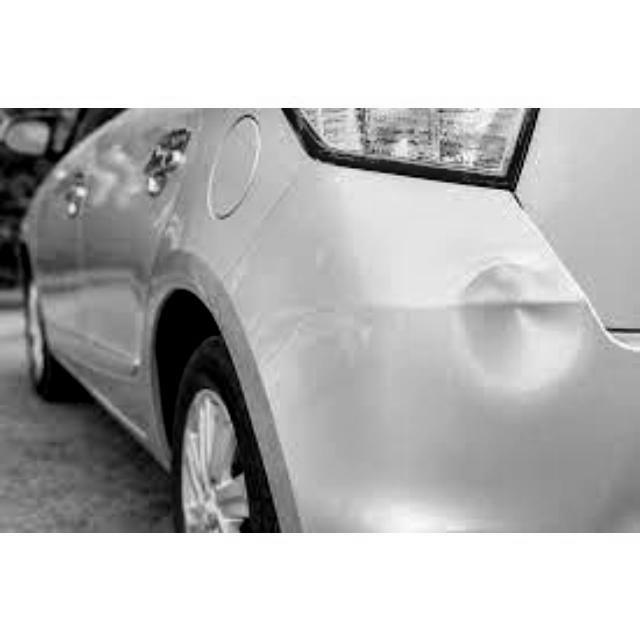rear-bumper-dent: (243, 238, 638, 531)
